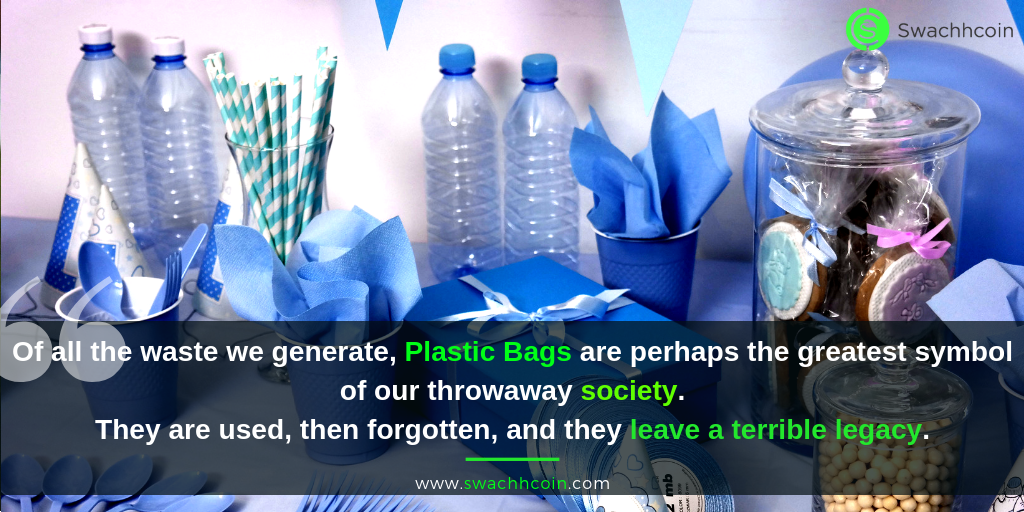plastic_bottle: (131, 9, 359, 415), (25, 8, 183, 358), (483, 17, 619, 371), (377, 4, 516, 344)
